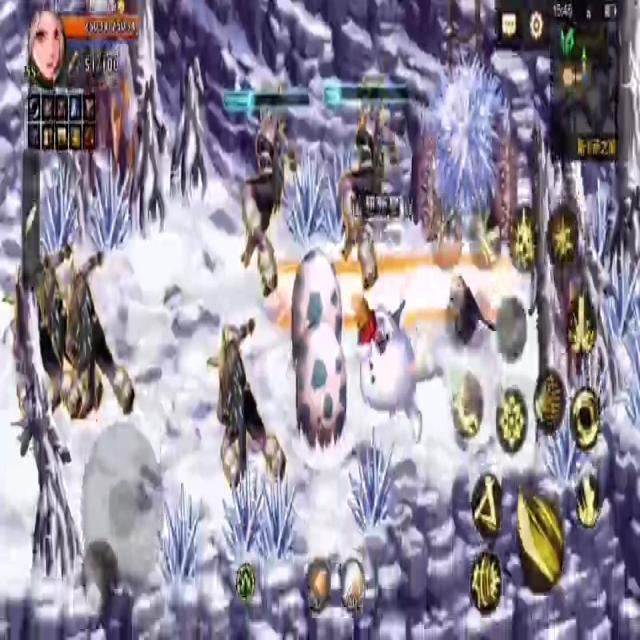player: (351, 286, 424, 446)
